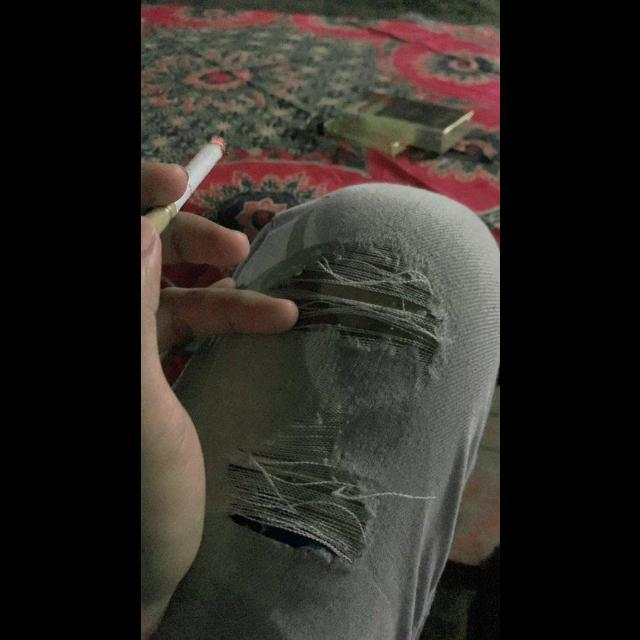rokok: (146, 130, 227, 230)
